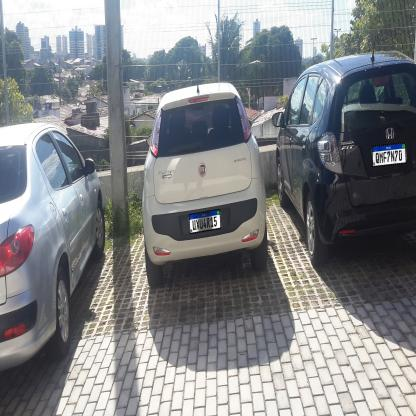PlacaM: (372, 142, 406, 168), (189, 209, 221, 234)
